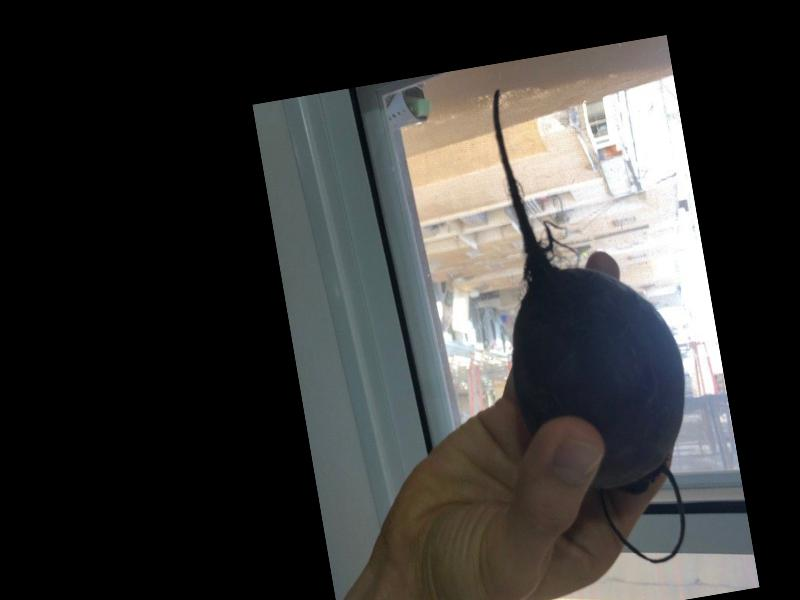Beet: (465, 65, 714, 579)
